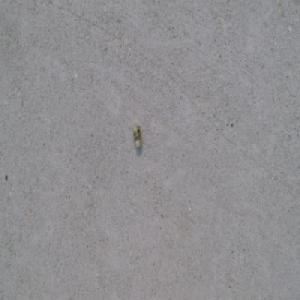BoltNutSet: (132, 124, 142, 147)
